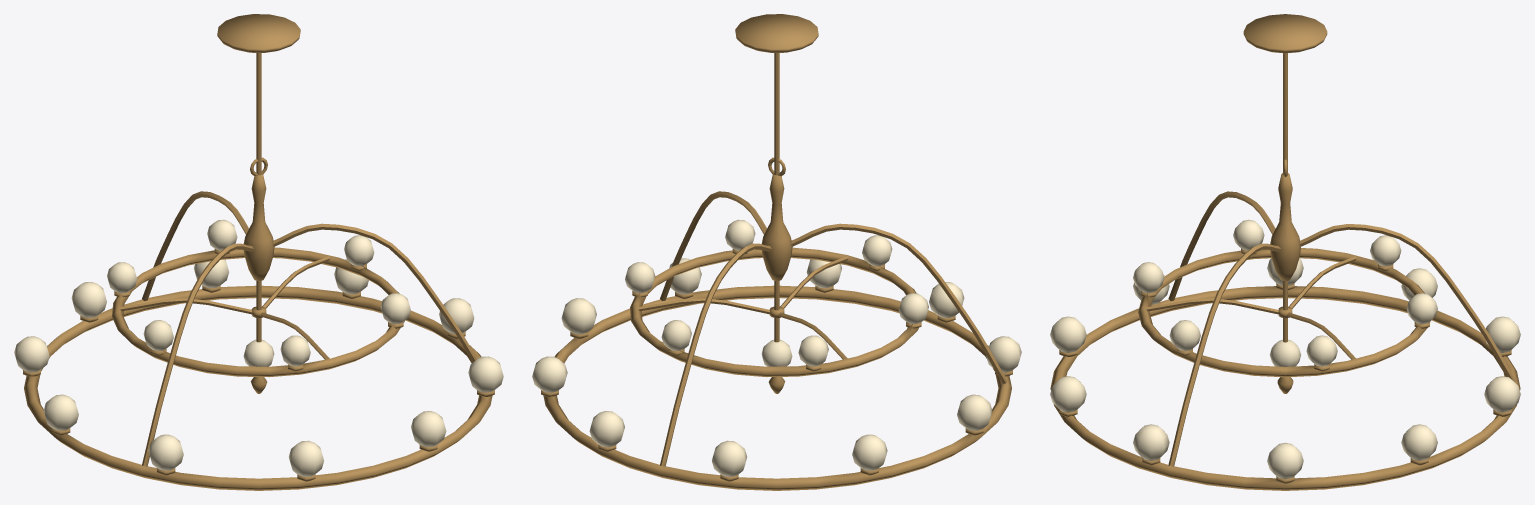
The model's file is chandelier.glb.
3 views of the same model, side by side, from view 1: azimuth 30°, elevation 25°; view 2: azimuth 150°, elevation 25°; view 3: azimuth 270°, elevation 25° (orthographic).
Parts seen in each view (by area): view 1: chandelier; view 2: chandelier; view 3: chandelier.
Boxes of the visible parts, x1=… form: chandelier: x1=14, y1=14, x2=503, y2=490; chandelier: x1=532, y1=14, x2=1021, y2=490; chandelier: x1=1050, y1=14, x2=1520, y2=490.
Bounding box in the file's own units: 0.94 × 0.763 × 0.8974.
